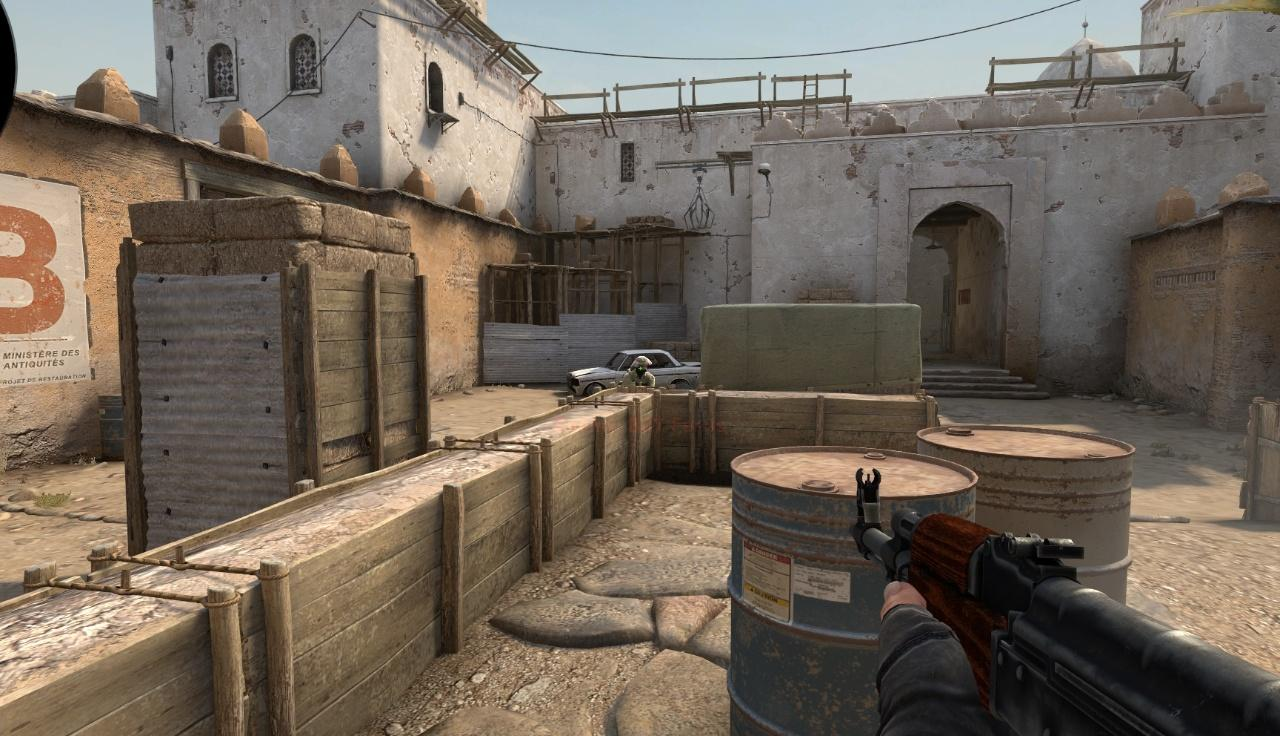ct: (621, 356, 655, 388)
cthead: (634, 356, 649, 375)
rifle: (851, 467, 1280, 736)
